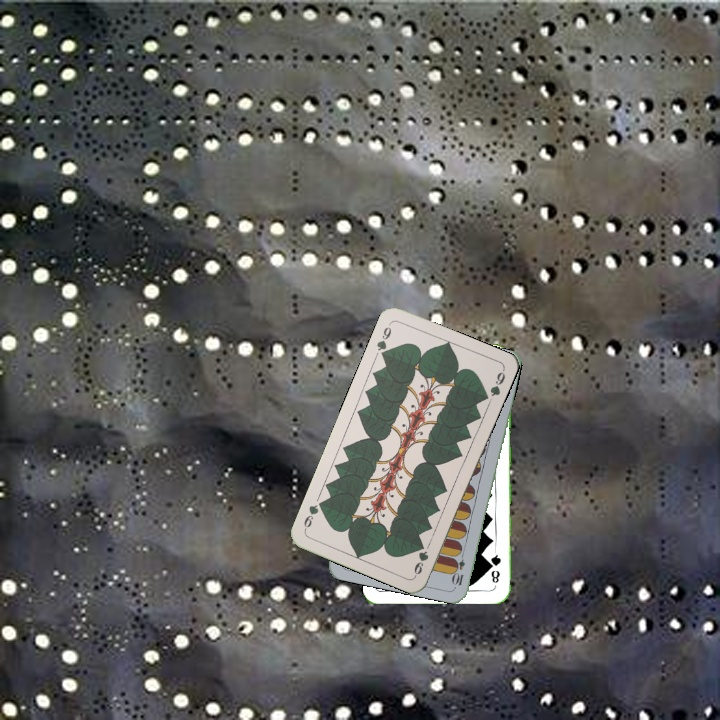E10: (450, 547, 468, 588)
G8: (487, 547, 503, 586)
G9: (372, 319, 394, 361), (410, 547, 431, 578)
